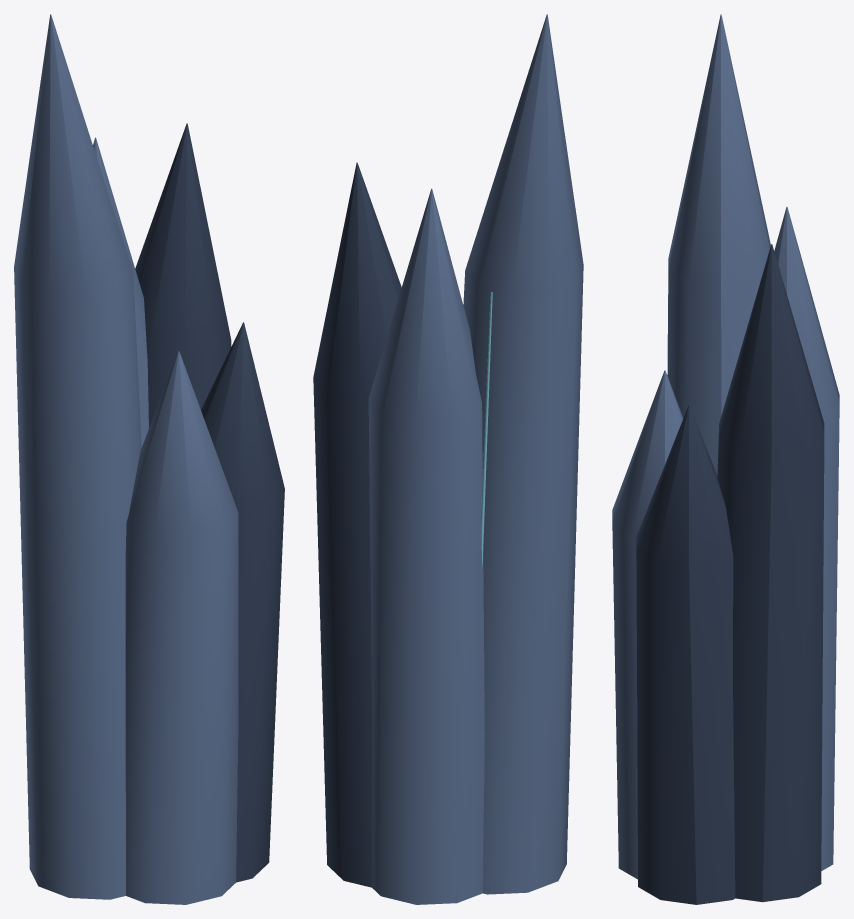
File: prop_2_4.glb
3 renders of one model, left to right at view 1: azimuth 30°, elevation 25°; view 2: azimuth 150°, elevation 25°; view 3: azimuth 270°, elevation 25°, orthographic. The views are drawn at different scales.
Visible parts, largest first — view 1: MoonShard (×5); view 2: MoonShard (×3), CrystalVein; view 3: MoonShard (×5).
Part boxes in pixels (x1,y1,x2,y2): MoonShard (×5): (14, 14, 284, 904); MoonShard (×3): (313, 14, 583, 904); CrystalVein: (481, 292, 492, 568); MoonShard (×5): (612, 14, 839, 904).
Bounding box in the file's own units: 2.06 × 7.2 × 1.85.
